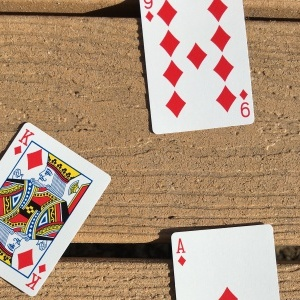card: (140, 1, 256, 136)
